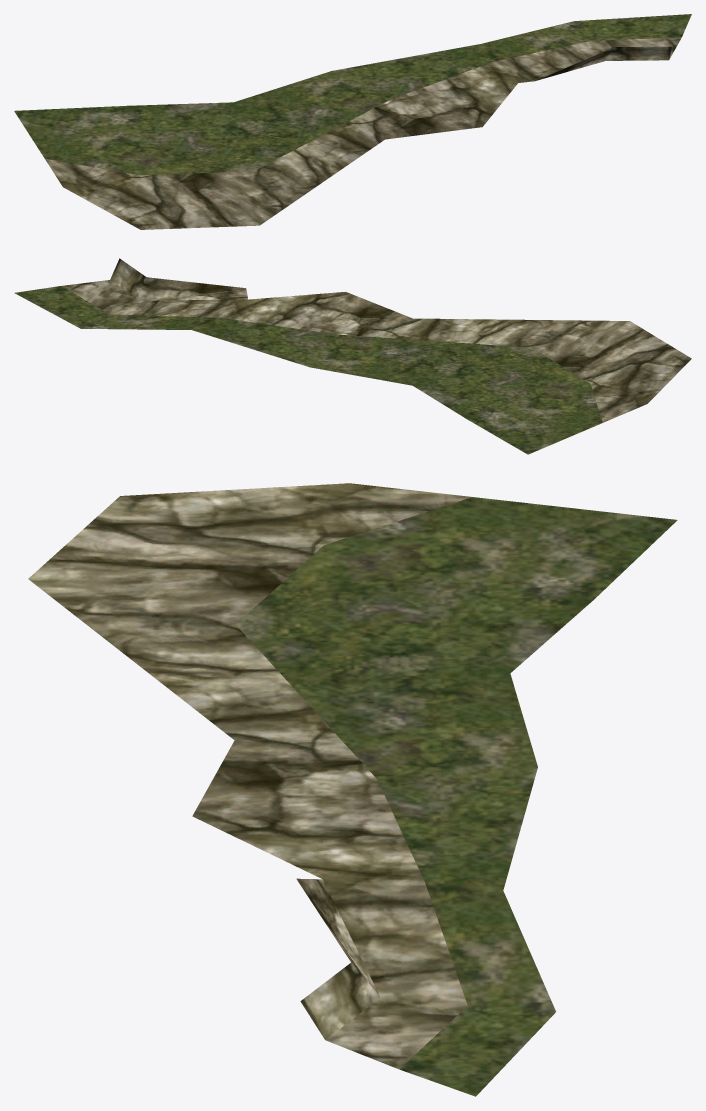
Rendered from CB_NEWPLAYSURFACE_CB_PLAYSURFACE78.fbx.
3 views of the same model, one above another, from view 1: azimuth 30°, elevation 25°; view 2: azimuth 150°, elevation 25°; view 3: azimuth 270°, elevation 25° (orthographic). The views are drawn at different scales.
Visible parts, largest first — view 1: CB_NEWPLAYSURFACE_CB_PLAYSURFACE78; view 2: CB_NEWPLAYSURFACE_CB_PLAYSURFACE78; view 3: CB_NEWPLAYSURFACE_CB_PLAYSURFACE78.
Boxes of the visible parts, x1,y1,x2,y2 form: CB_NEWPLAYSURFACE_CB_PLAYSURFACE78: [14, 14, 691, 229]; CB_NEWPLAYSURFACE_CB_PLAYSURFACE78: [14, 258, 691, 454]; CB_NEWPLAYSURFACE_CB_PLAYSURFACE78: [28, 483, 677, 1096].
Size of the model in its own units: 230521 by 6541 by 107723.
Materials: 2 (2 with a texture image).
